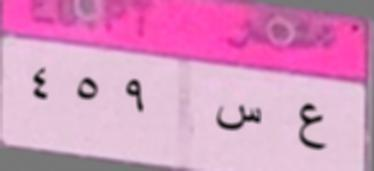4: (25, 63, 54, 108)
5: (75, 73, 101, 108)
9: (122, 78, 146, 119)
ain: (296, 100, 328, 157)
seen: (213, 101, 265, 139)
